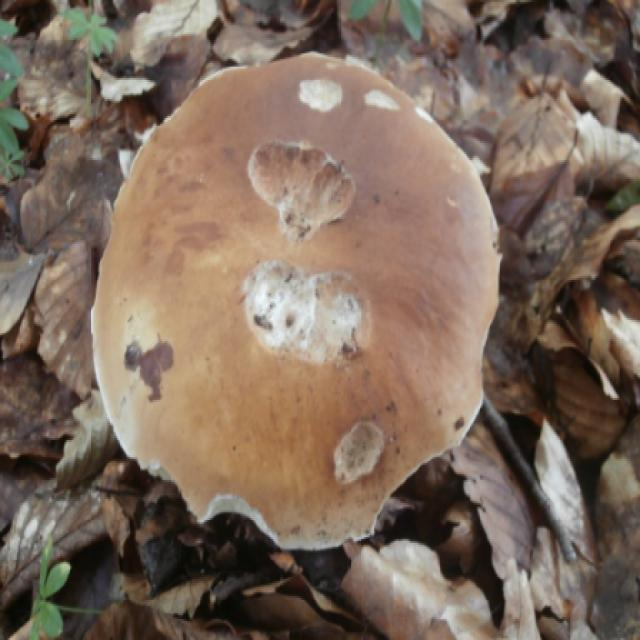Boletus: (94, 52, 500, 553)
